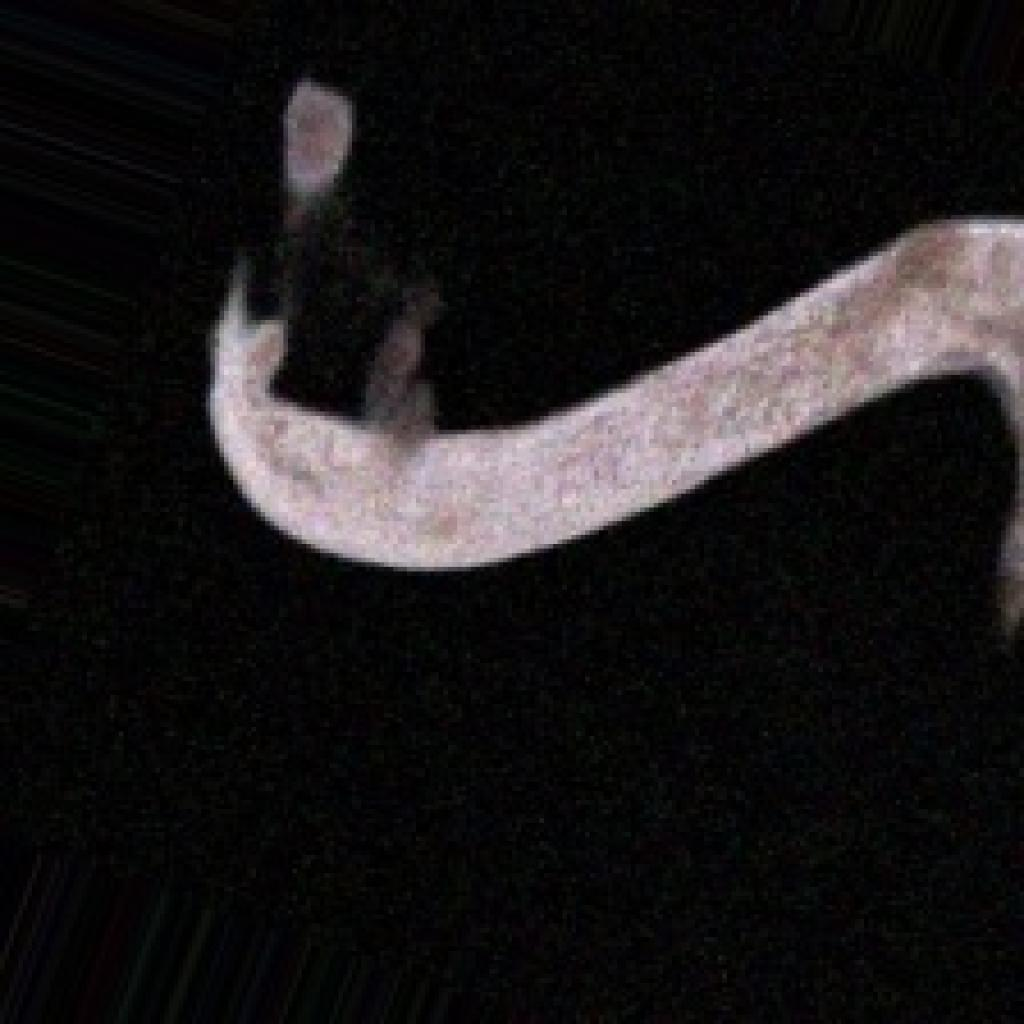Nematode: (201, 0, 1020, 663)
